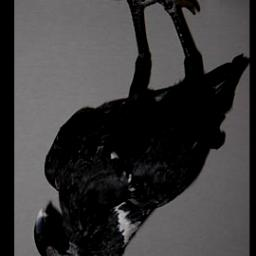Crow: (30, 0, 247, 256)
